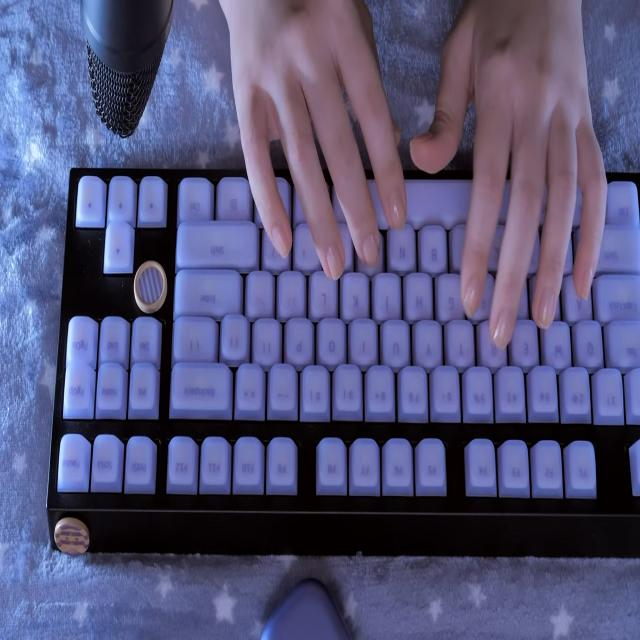keyboard-with-hands: (48, 170, 640, 517)
